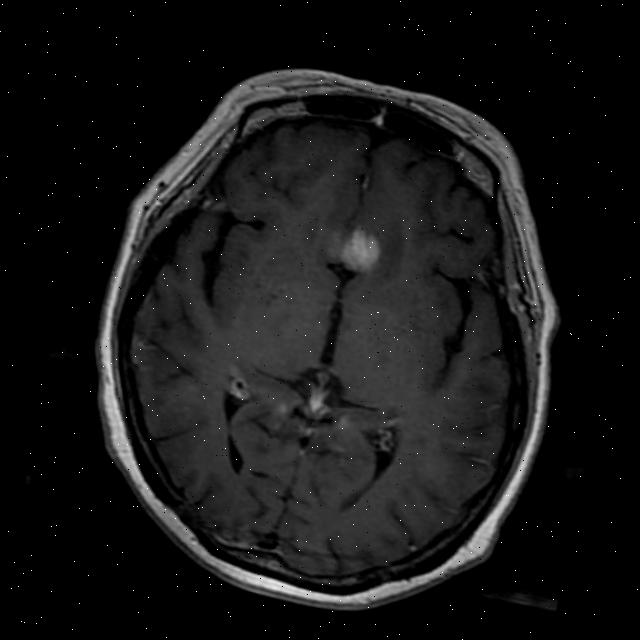Meningioma: (335, 218, 388, 278)
